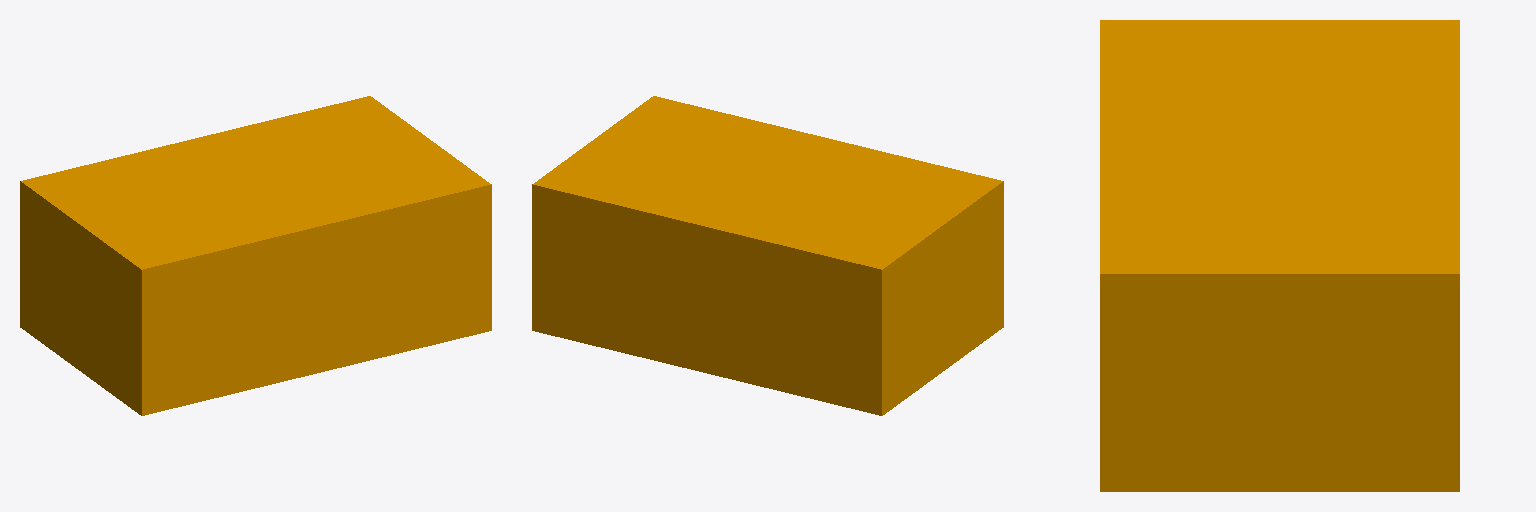
URDF robot description (object):
<?xml version="0.0"?>
	<robot name="object">
		<link name="object">
			<visual>
				<origin xyz="0 0 0"/>
				<geometry>
					<box size="0.5 0.3 0.2"/>
				</geometry>
			</visual>
			<inertial>
				<mass value="3.000"/>
			</inertial>
			<collision>
				<origin xyz="0 0 0"/>
				<geometry>
					<box size="0.5 0.3 0.2"/>
				</geometry>
			</collision>
		</link>

	</robot>

--- Facts derived from the render (not from the file) ---
Views: 3 orthographic renders of the robot side by side, from view 1: azimuth 30°, elevation 25°; view 2: azimuth 150°, elevation 25°; view 3: azimuth 270°, elevation 25°.
Robot: object — 1 links, 0 joints (none); root link object; default pose: all joints at 0.
Visible links, largest first — view 1: object; view 2: object; view 3: object.
Boxes of the visible links, bbox=[...] form: object: bbox=[20, 96, 491, 415]; object: bbox=[532, 96, 1003, 415]; object: bbox=[1100, 20, 1459, 491].
Size in the robot's own frame: 0.5 by 0.3 by 0.2 metres.
Geometry: primitives only (box / cylinder / sphere), no mesh files.